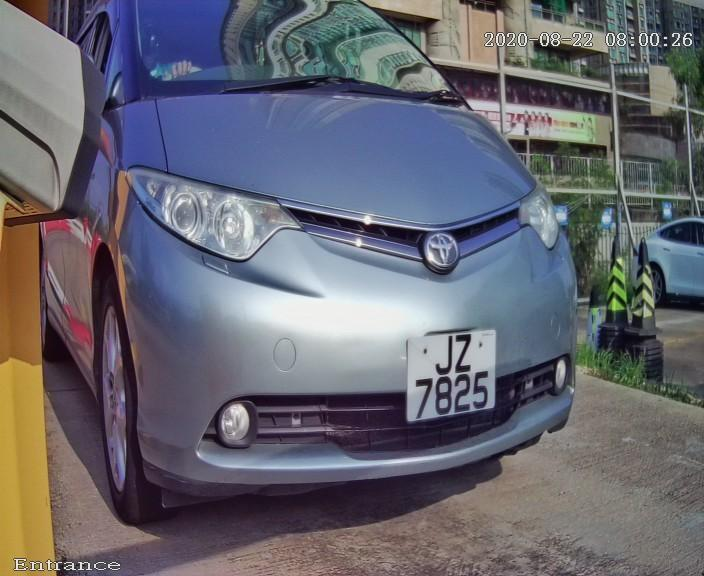License Plate: (403, 319, 503, 433)
